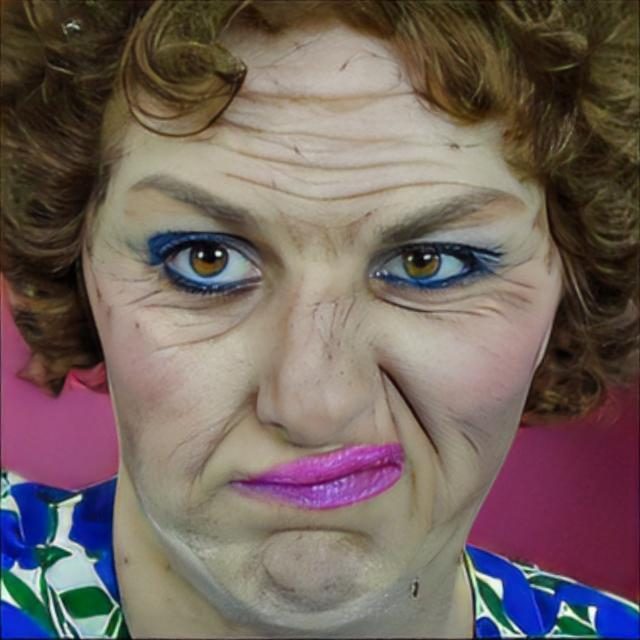disgust: (78, 8, 566, 632)
